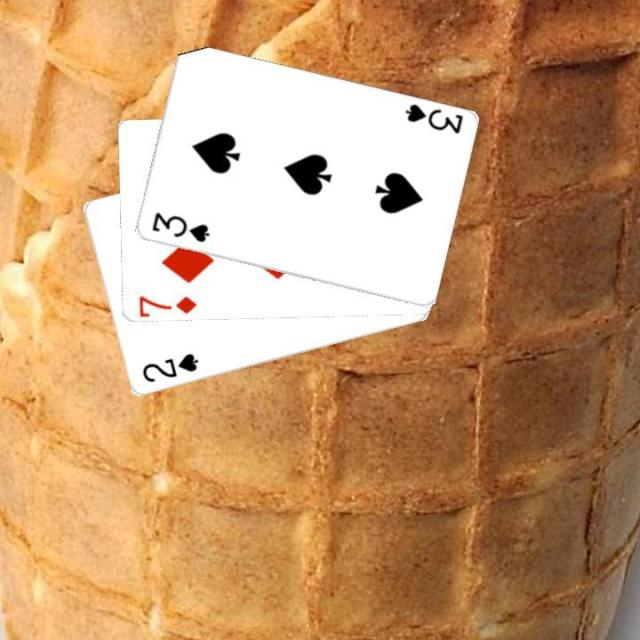2S: (138, 349, 200, 385)
3S: (401, 100, 465, 136), (147, 209, 210, 245)
7D: (134, 292, 198, 316)
